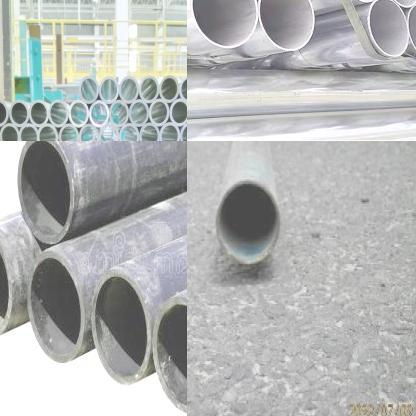pipe: (92, 268, 152, 386), (27, 251, 85, 363), (17, 141, 75, 243), (216, 178, 281, 266), (152, 296, 187, 414), (188, 0, 259, 50), (255, 0, 315, 50), (366, 0, 410, 58), (0, 227, 12, 338), (68, 99, 90, 127), (149, 98, 170, 126), (160, 74, 180, 103), (129, 98, 149, 127), (48, 98, 68, 127), (406, 1, 416, 58), (139, 74, 159, 102), (119, 75, 139, 103), (9, 99, 29, 127), (109, 99, 129, 127), (89, 99, 109, 127), (99, 76, 119, 103), (30, 99, 48, 127), (80, 76, 98, 103), (170, 98, 187, 126), (160, 121, 179, 141), (139, 122, 159, 141), (99, 122, 119, 141), (119, 122, 139, 141), (38, 122, 58, 141), (19, 122, 38, 141), (0, 122, 19, 141), (79, 122, 98, 141), (59, 123, 79, 141), (179, 75, 187, 102), (0, 99, 8, 126), (180, 121, 187, 141)
